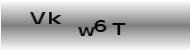6: (94, 19, 106, 33)
T: (111, 22, 126, 35)
V: (28, 10, 46, 24)
k: (48, 11, 62, 25)
w: (78, 26, 96, 37)
